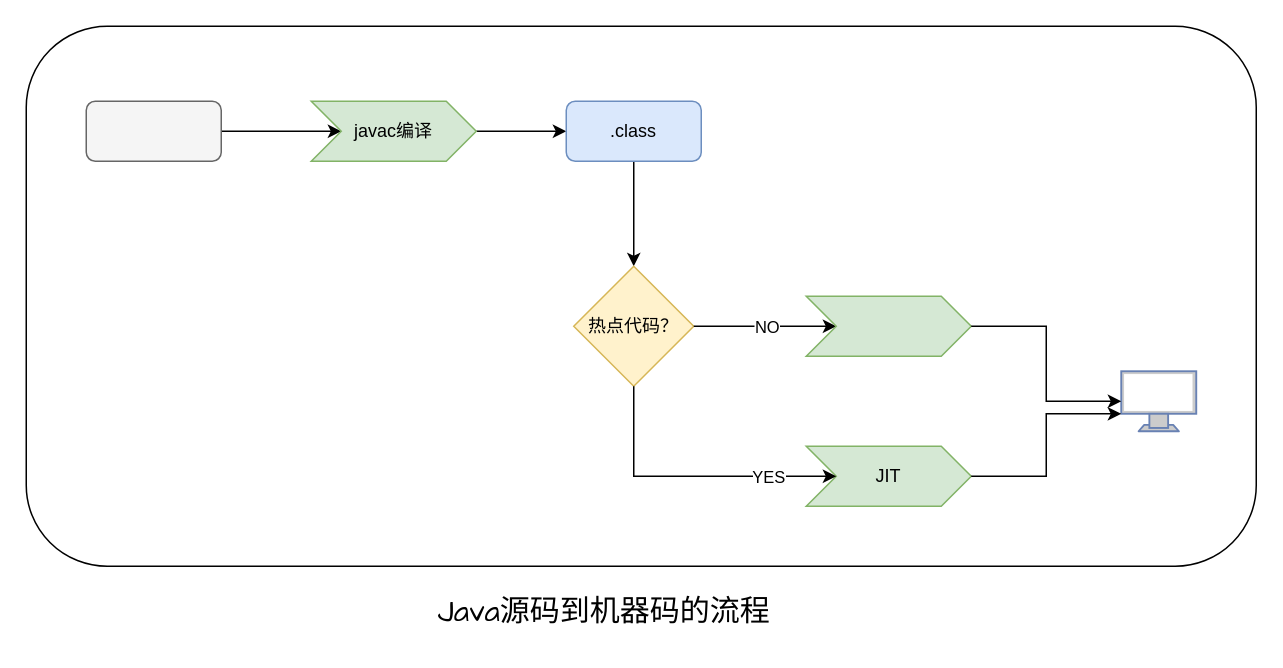
Some shapes in this 1283 by 668 pixel diagram are drawn without their labels. Each missing label, with the centre of its shape:
.java: (x=153, y=130)
解释器: (x=888, y=325)
